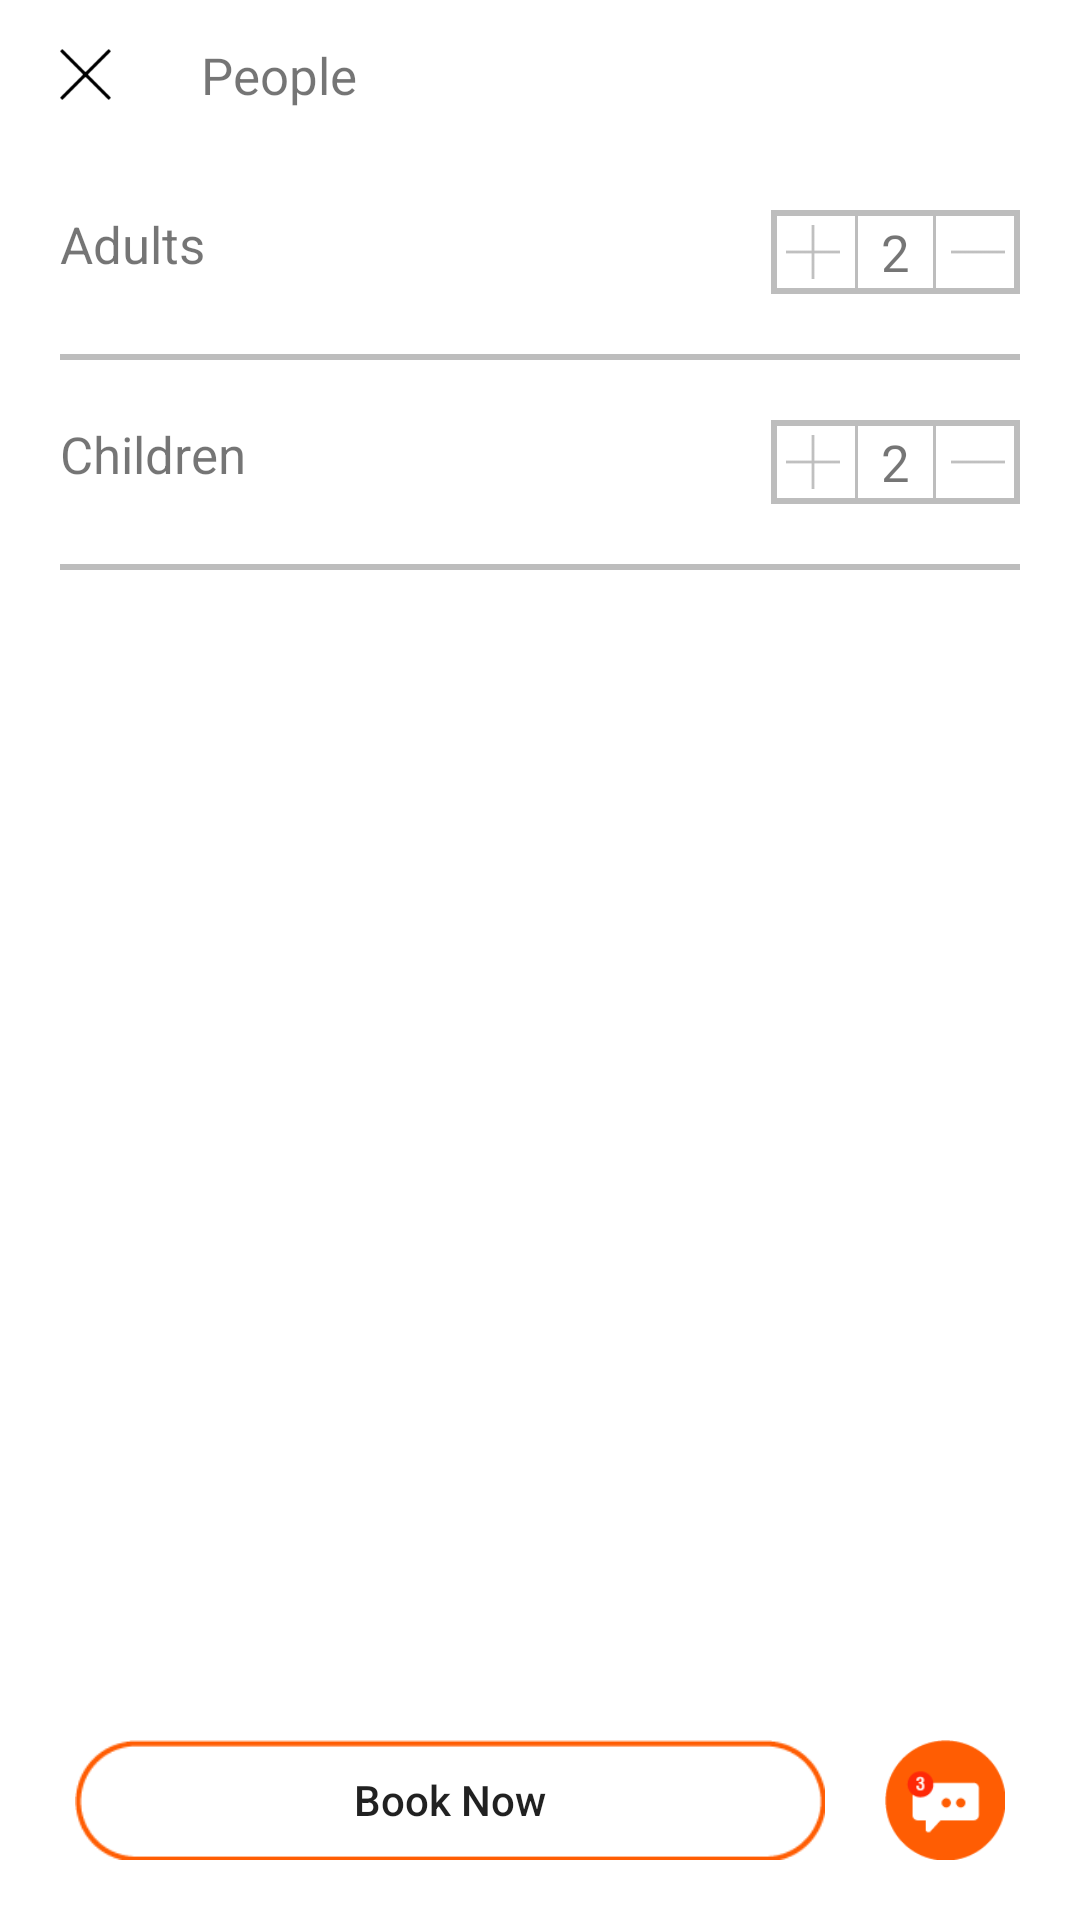

Where icons sit on this 1080 × 1920 app screen, as (x1, y1, x2, y2):
add: (786, 225, 840, 279), (786, 435, 840, 489)
cross: (60, 49, 111, 100)
